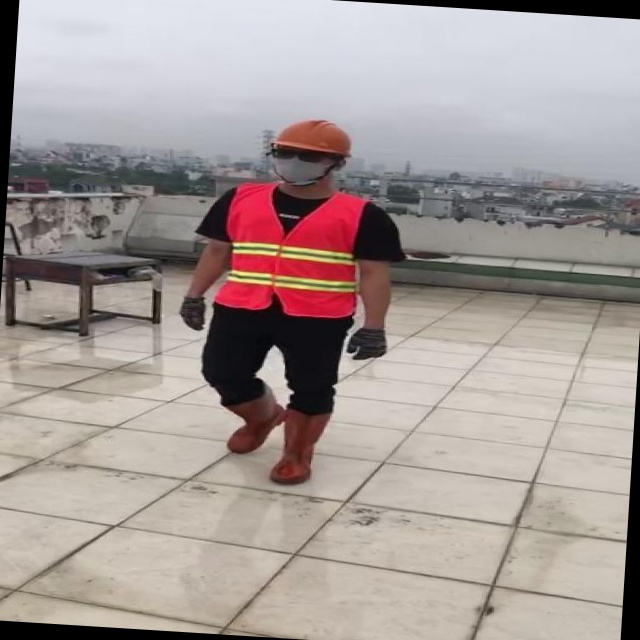boots: (346, 387, 414, 458), (304, 412, 364, 488)
gloves: (430, 299, 465, 346), (248, 324, 294, 359)
helmet: (293, 119, 385, 158)
vest: (278, 188, 430, 315)
